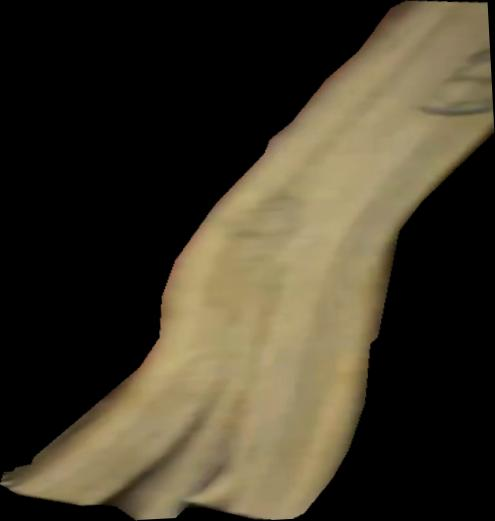backward: (1, 1, 495, 521)
